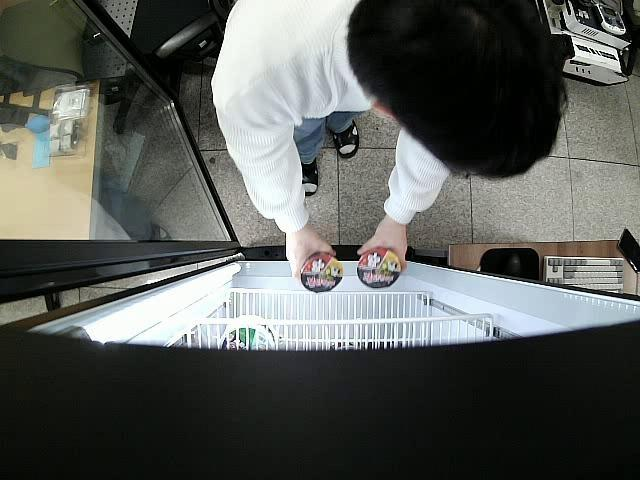08_buldak_S: (356, 248, 403, 290), (296, 254, 344, 294)
